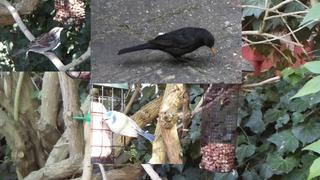blackbird: (117, 27, 215, 65)
blue tit: (101, 110, 156, 142)
sparrow: (12, 27, 64, 58)
